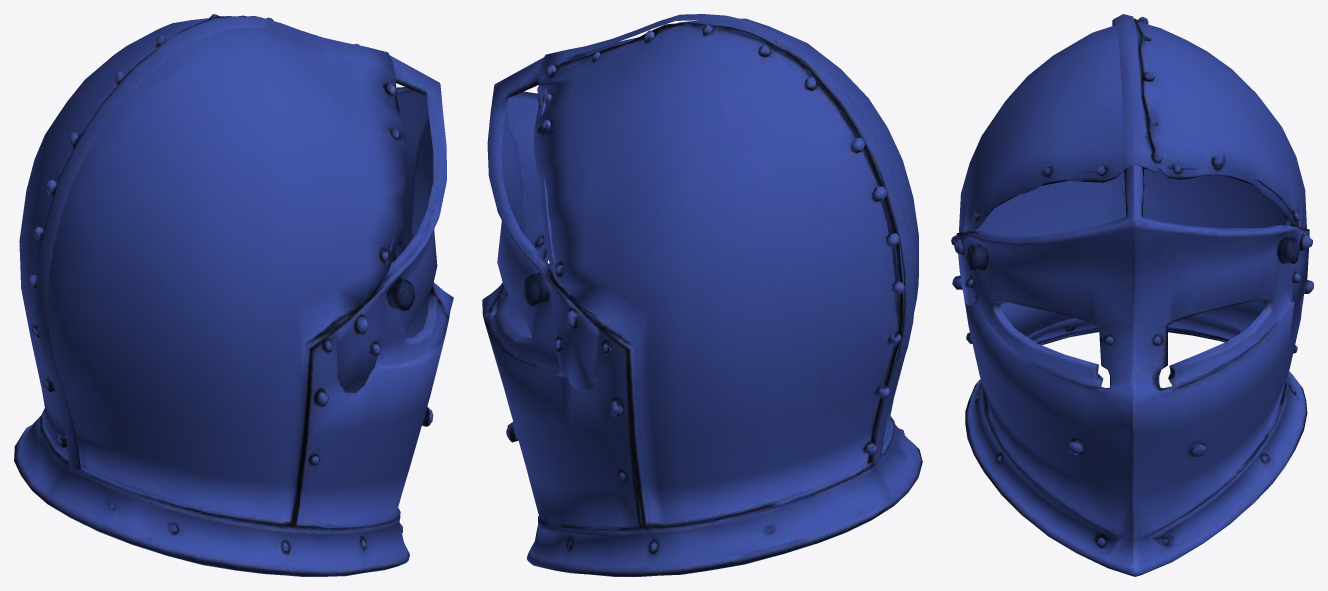
File: mithril_full_helm.glb
3 views of the same model, side by side, from view 1: azimuth 30°, elevation 25°; view 2: azimuth 150°, elevation 25°; view 3: azimuth 270°, elevation 25° (orthographic). The views are drawn at different scales.
Visible parts, largest first — view 1: tripo_node_af3596da-f39c-445c-85cb-942779934b46; view 2: tripo_node_af3596da-f39c-445c-85cb-942779934b46; view 3: tripo_node_af3596da-f39c-445c-85cb-942779934b46.
Part boxes in pixels (x1=…): tripo_node_af3596da-f39c-445c-85cb-942779934b46: x1=14, y1=14, x2=453, y2=576; tripo_node_af3596da-f39c-445c-85cb-942779934b46: x1=482, y1=14, x2=922, y2=576; tripo_node_af3596da-f39c-445c-85cb-942779934b46: x1=951, y1=14, x2=1313, y2=576.
Bounding box in the file's own units: 0.5331 × 0.6863 × 0.4761.
1 material, 1 textured.
